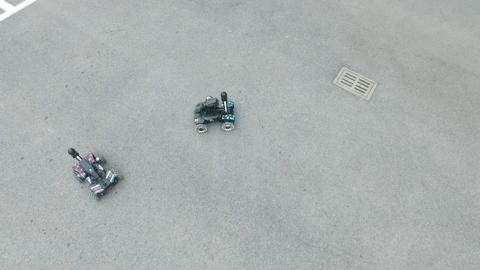chariot: (51, 144, 124, 206), (185, 82, 240, 135)
